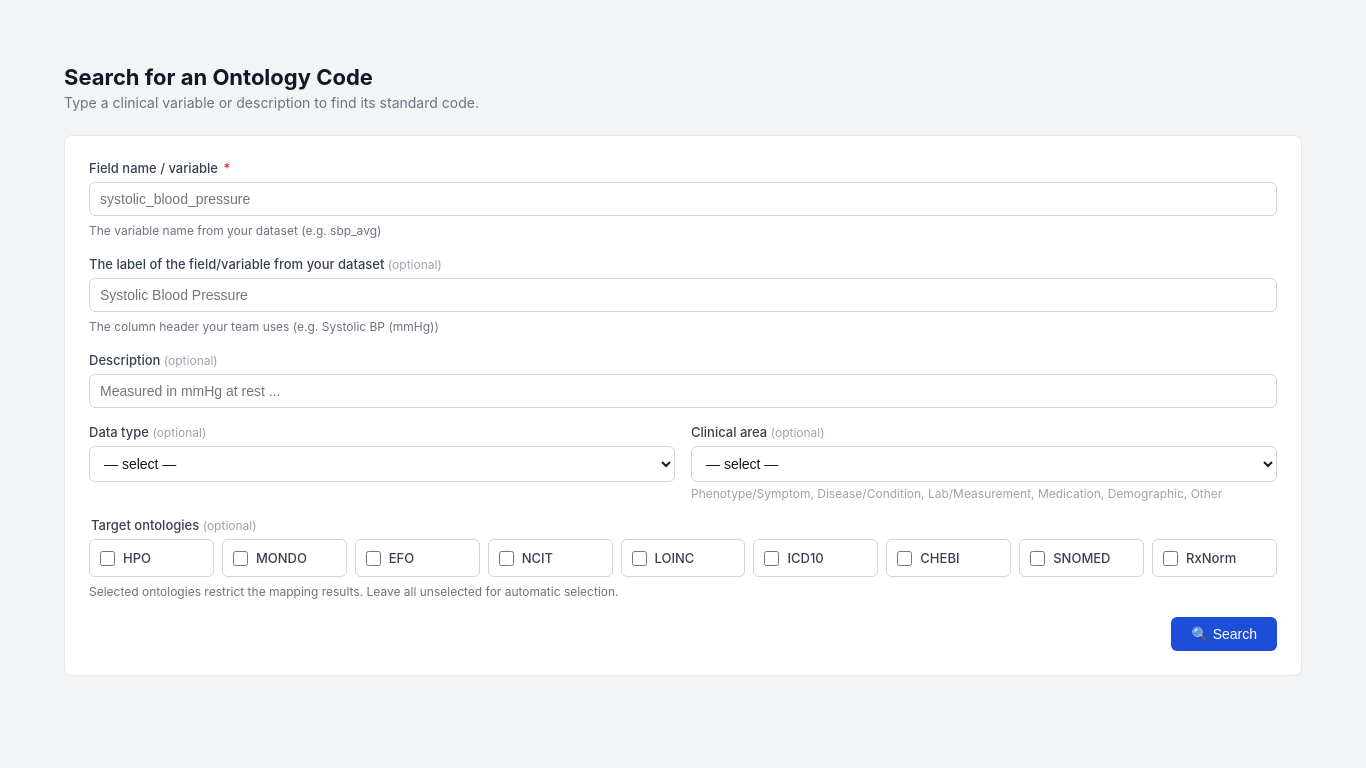
Scenario: SearchPage retrieval method display › sends EFO through the existing single-term target ontology payload
The width and height of the screenshot is (1366, 768).
Click the checkbox labelled "EFO": click(373, 558) [366, 550, 381, 566]
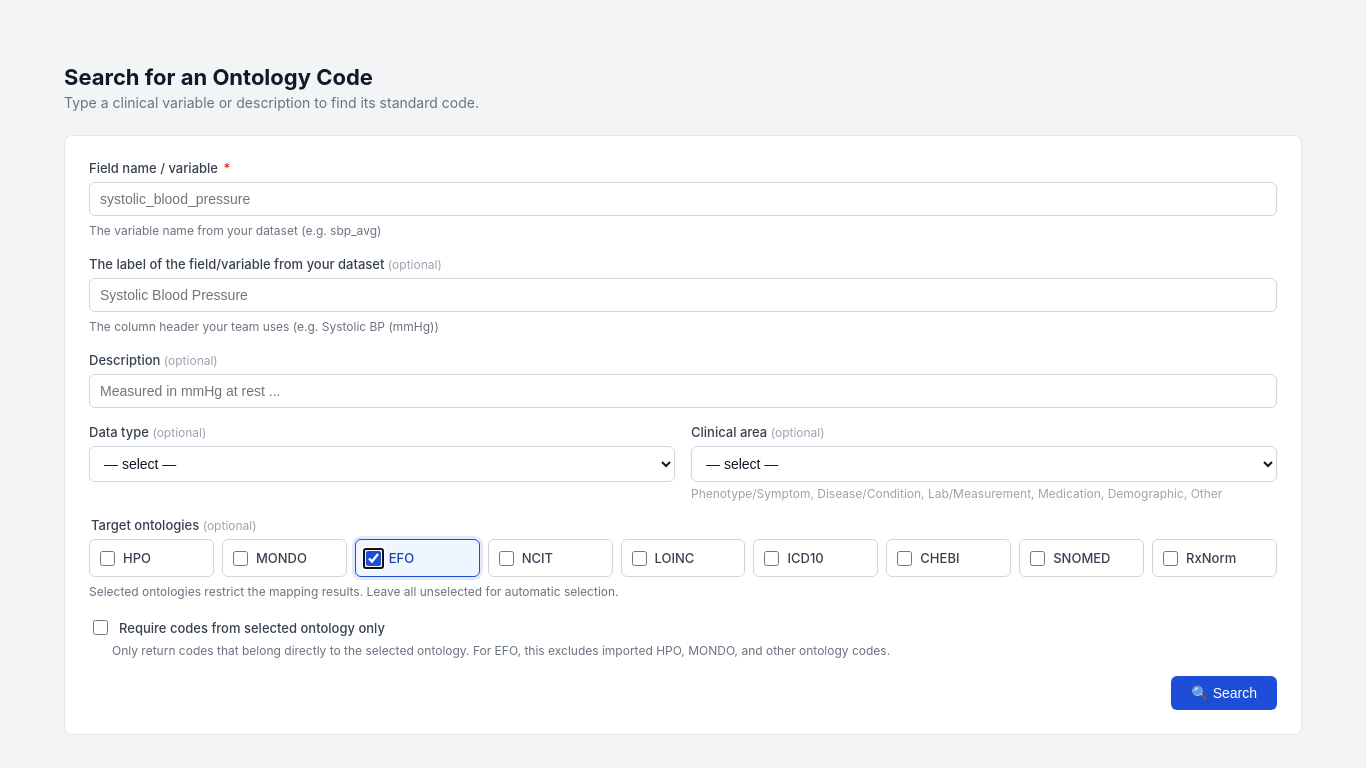
In the field labelled "Field name / variable *": (683, 199) [89, 182, 1277, 216], type "sbp"
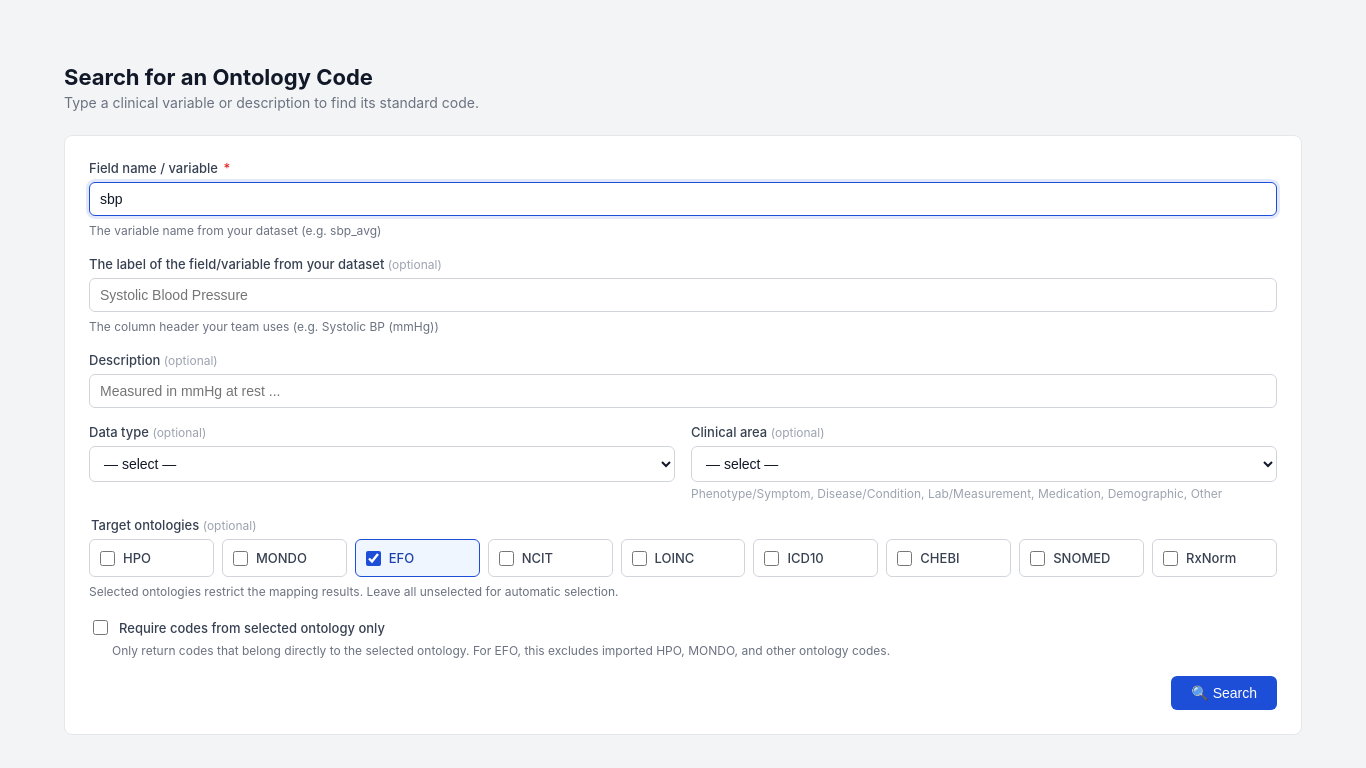
Click the button "🔍 Search": click(1224, 693) [1171, 676, 1277, 710]
(page scrolled)
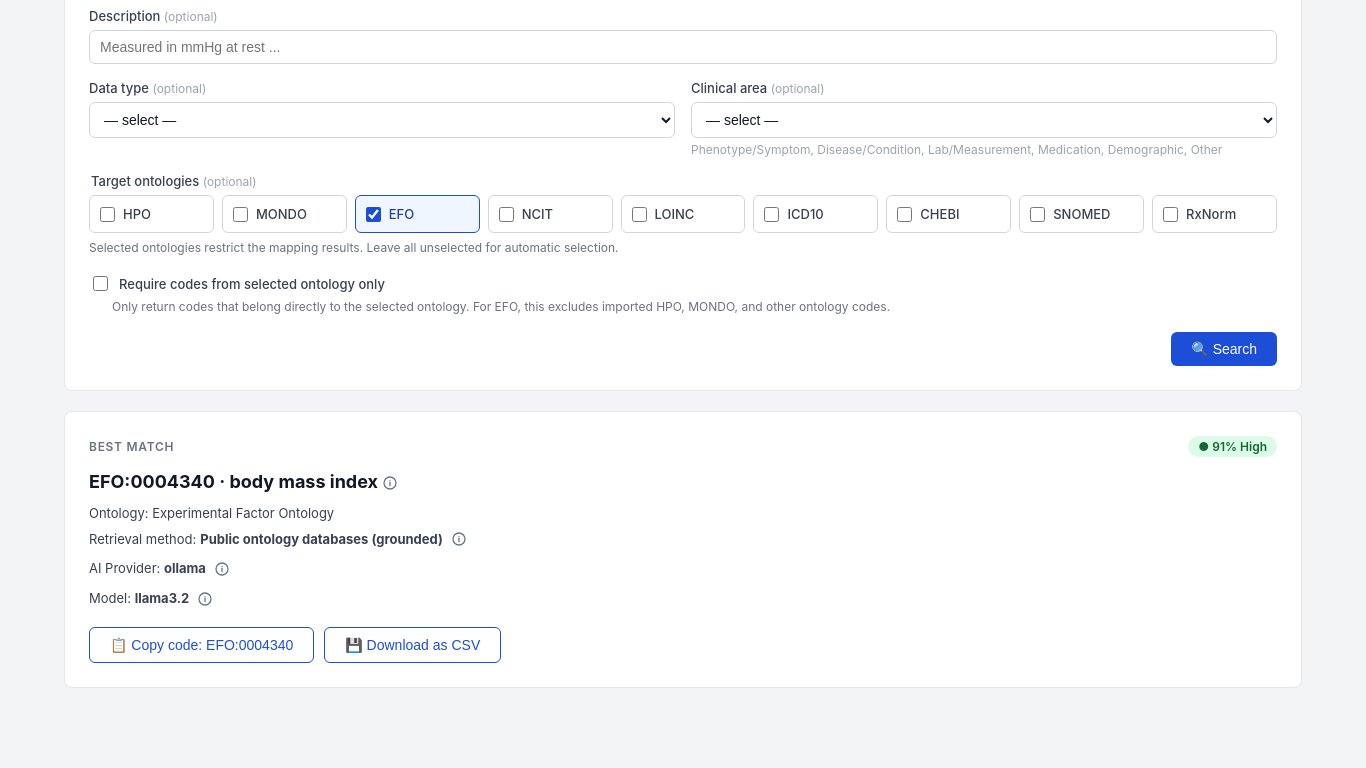
Now the element with class "result-code-term" reads "EFO:0004340 · body mass index", box [89, 471, 402, 495]
Now the text "Ontology: Experimental Factor Ontology" is shown, box [89, 505, 334, 521]
